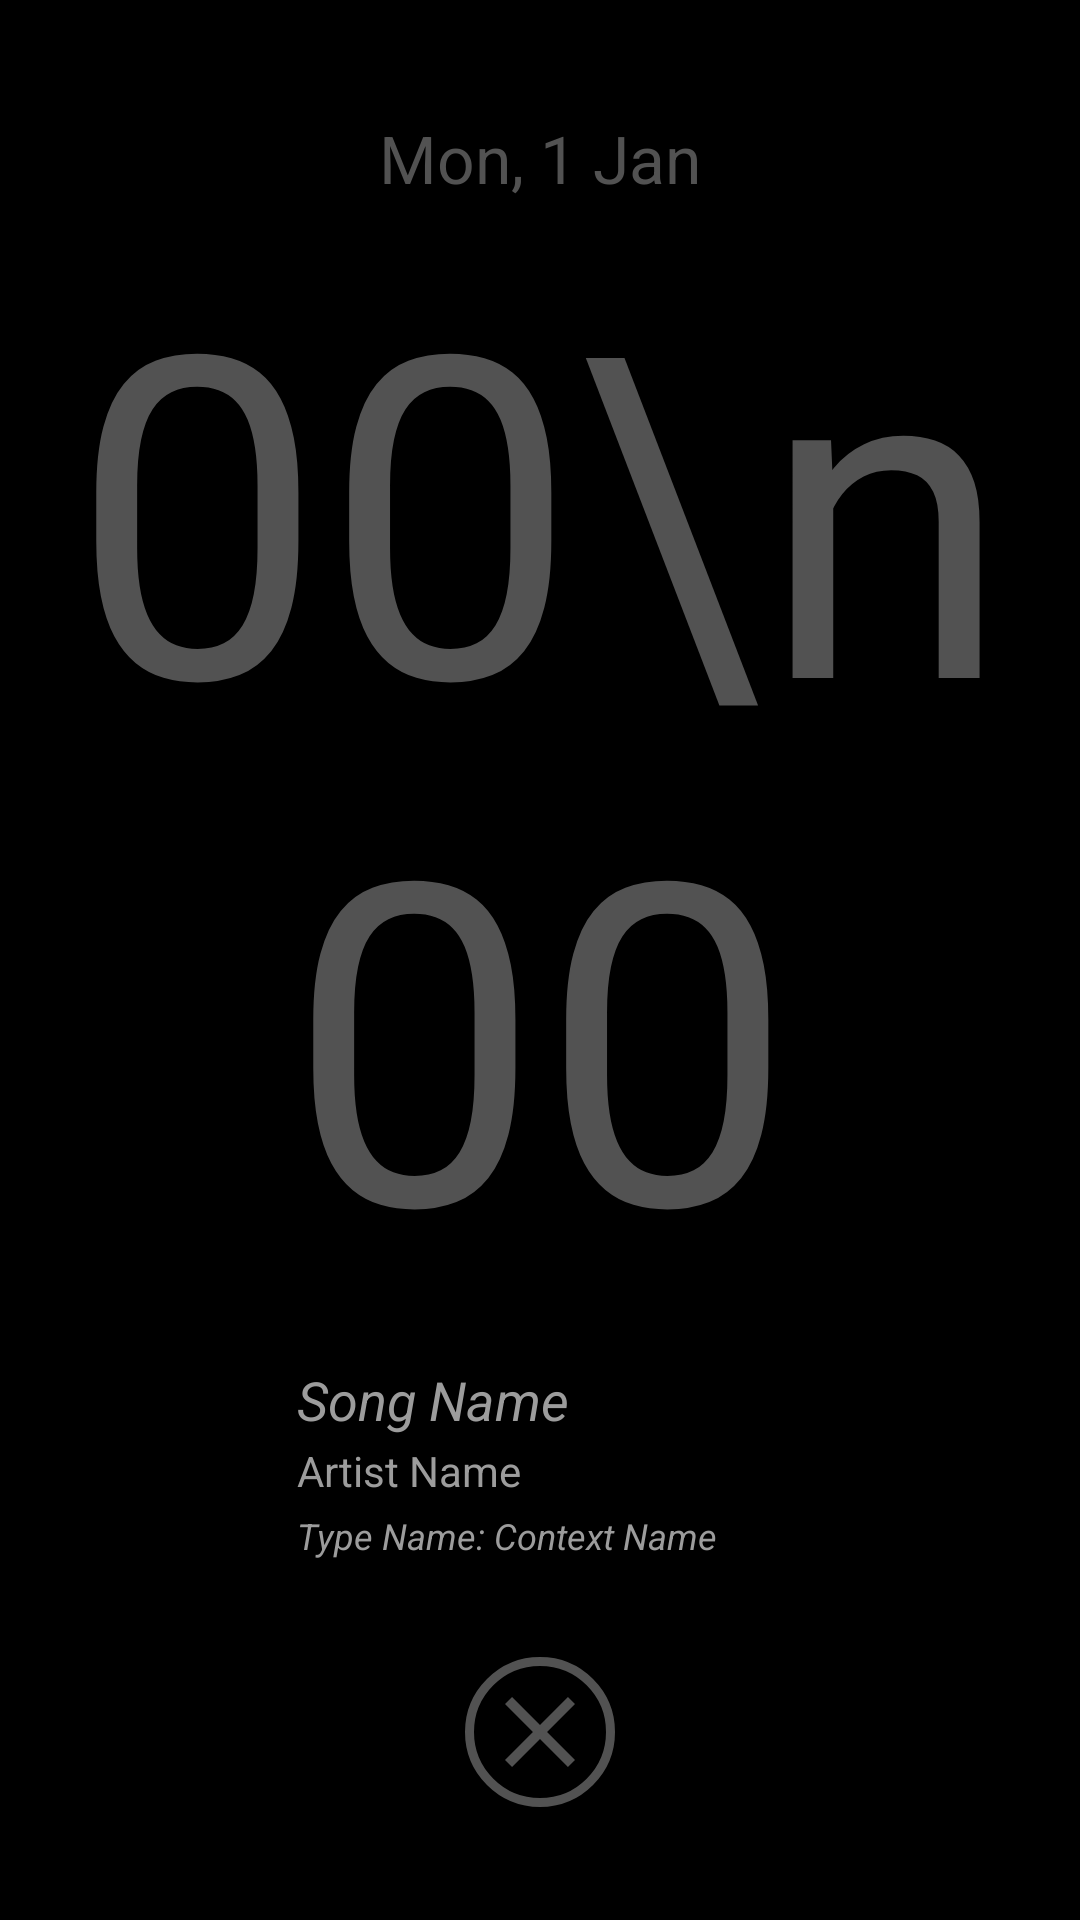

Screen size 1080px x 1920px. Icon name, then its center in pixels as (x,y):
exit: (540,1732)
